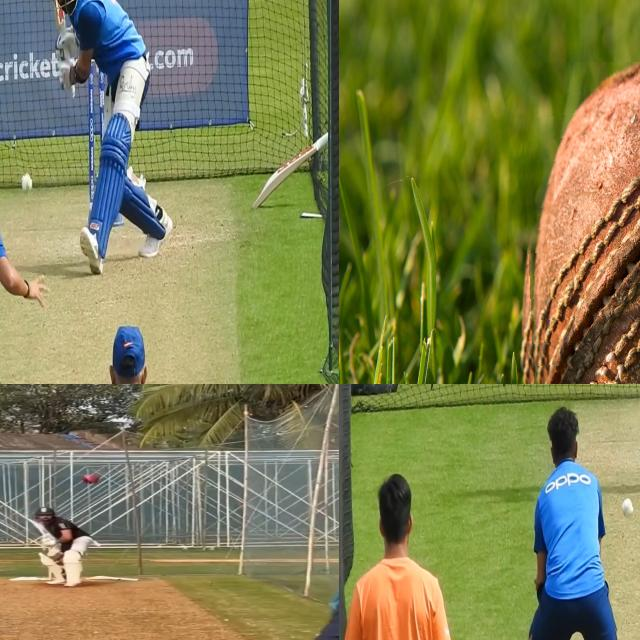Cricket ball: (519, 62, 640, 384), (20, 168, 34, 199), (620, 496, 636, 521), (81, 473, 100, 485)
